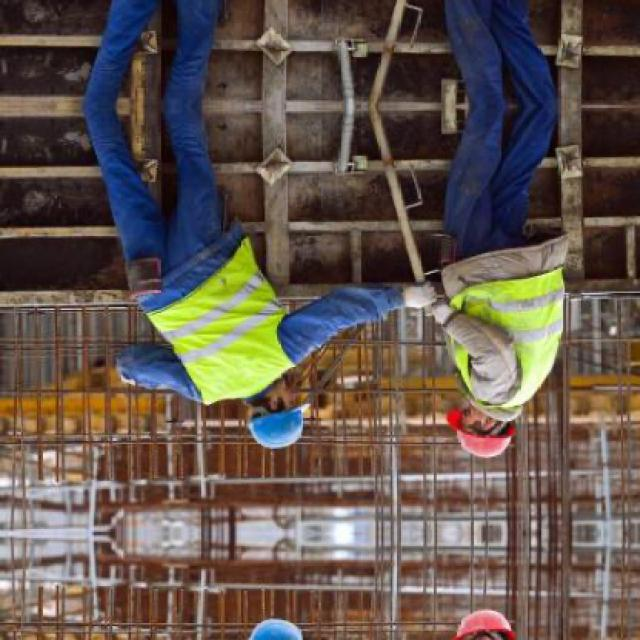con casco: (435, 386, 535, 479), (212, 370, 288, 452)
